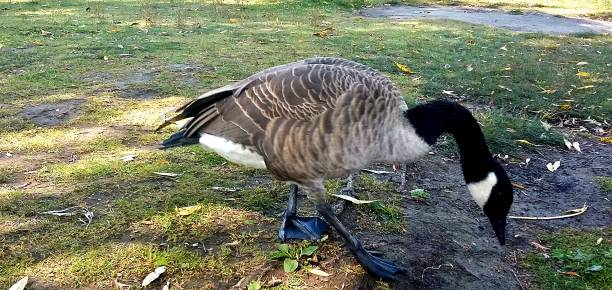goose: (148, 51, 516, 283)
